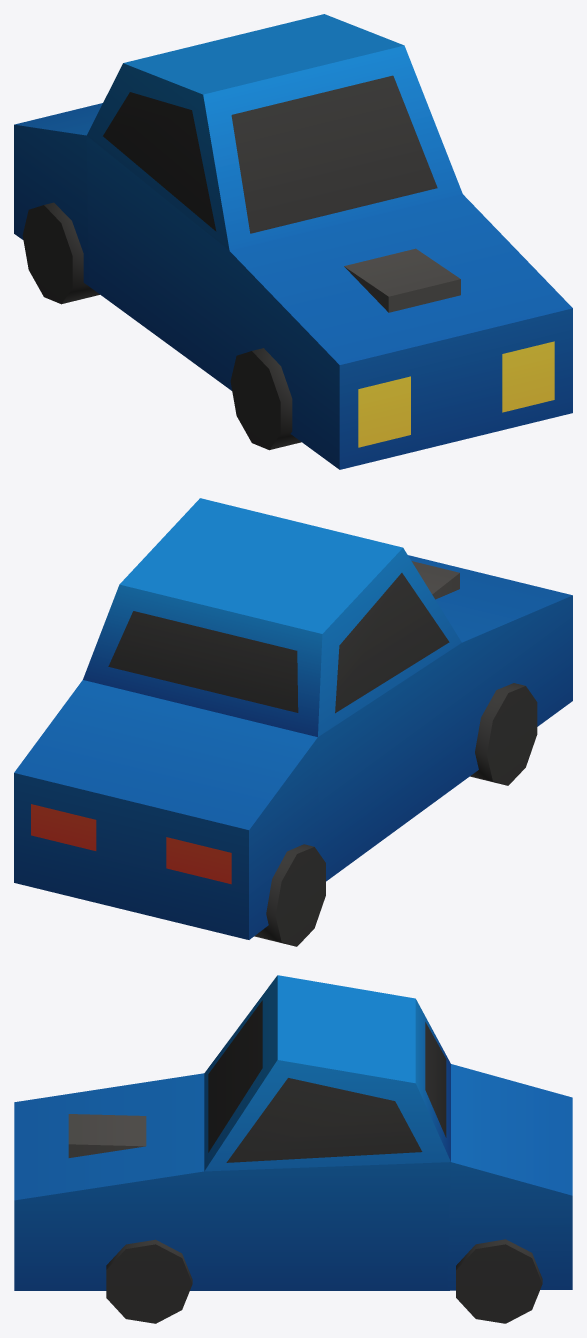
The model's file is Car_7_3.fbx.
3 renders of one model, top to bottom at view 1: azimuth 30°, elevation 25°; view 2: azimuth 150°, elevation 25°; view 3: azimuth 270°, elevation 25°, orthographic. The views are drawn at different scales.
Visible parts, largest first — view 1: Car_7_3; view 2: Car_7_3; view 3: Car_7_3.
Boxes of the visible parts, x1,y1,x2,y2 form: Car_7_3: [14, 14, 572, 469]; Car_7_3: [14, 498, 572, 946]; Car_7_3: [14, 975, 572, 1323].
Bounding box in the file's own units: 212 × 231 × 464.
